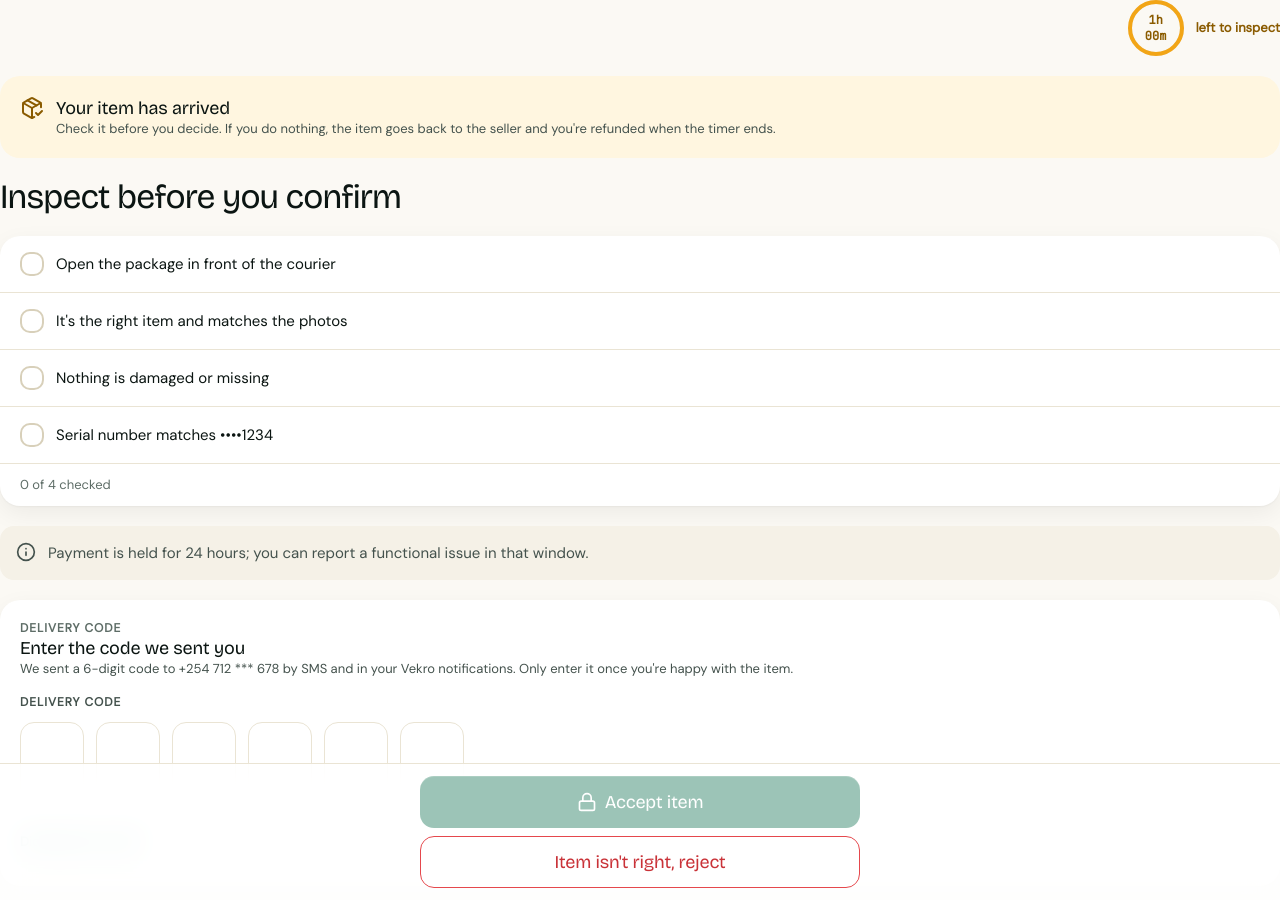
Test: B4 arrival and inspection › offers the standard reasons when the seller declared none
Click the button "Item isn't right, reject".
click(640, 862)  # box [420,836,860,888]
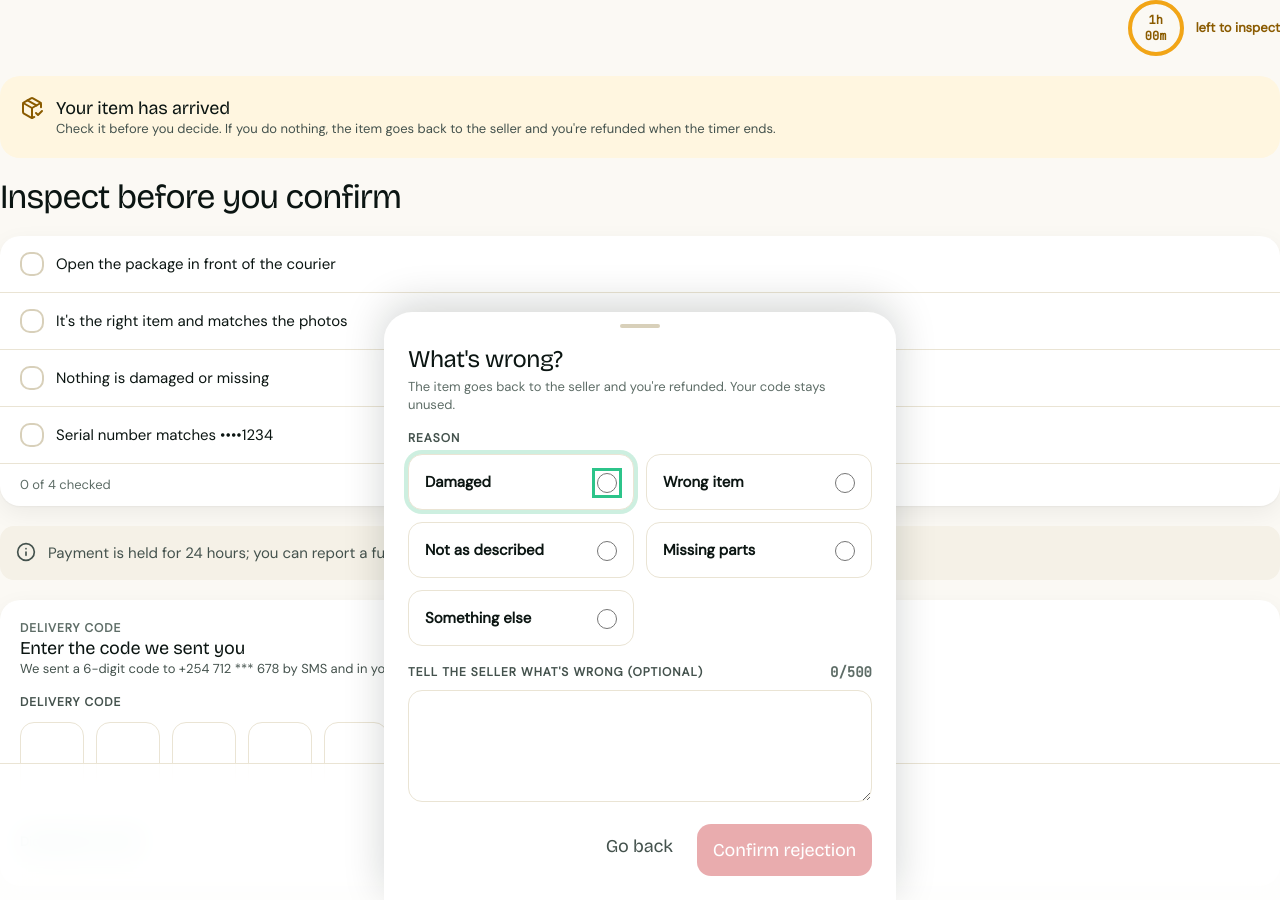
Expected: the dialog "What's wrong?" shows "Damaged", [425,472,491,492]
Expected: the dialog "What's wrong?" shows "Wrong item", [663,472,744,492]
Expected: the dialog "What's wrong?" shows "Not as described", [425,540,544,560]
